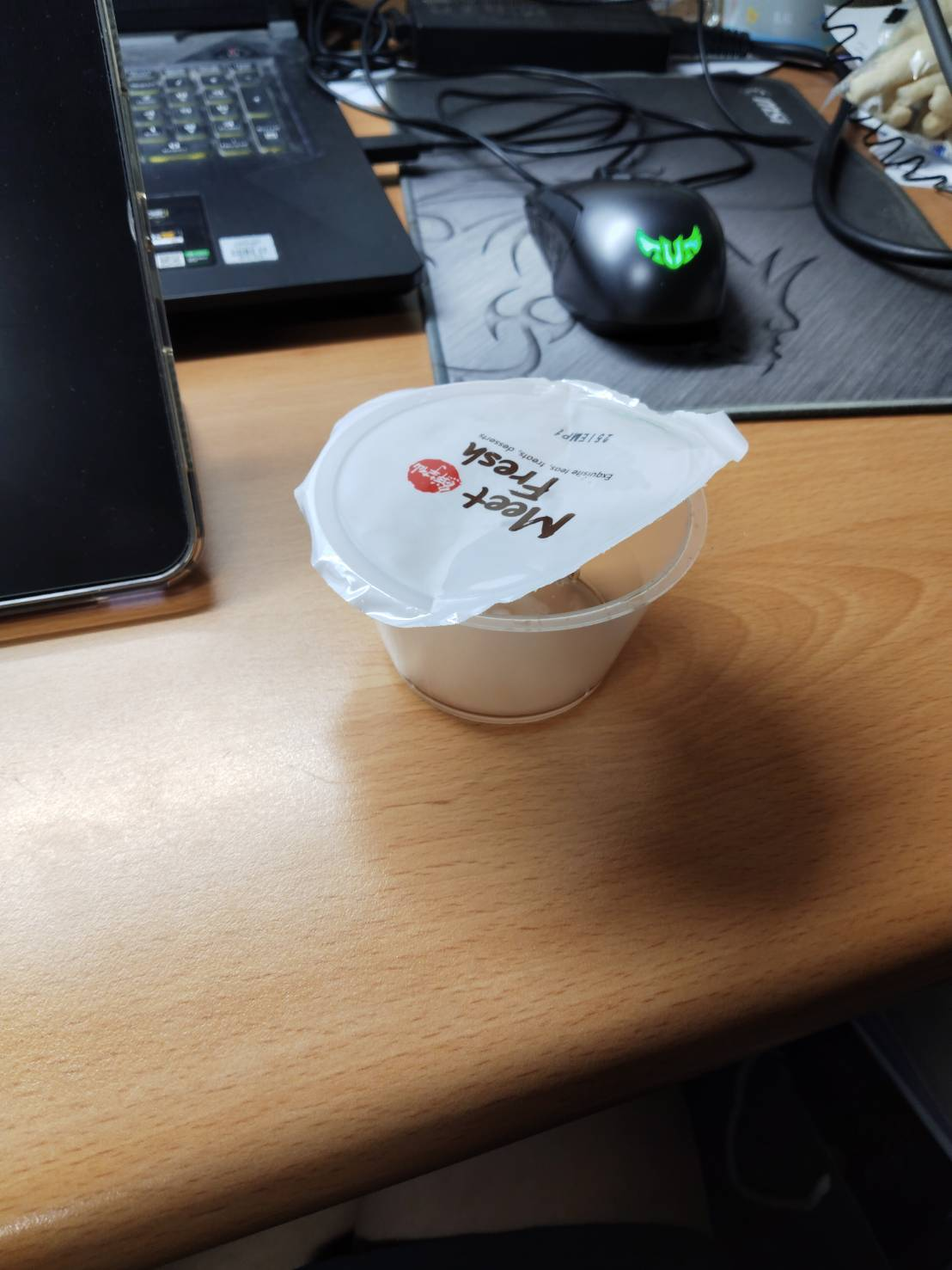plastic: (246, 338, 793, 777)
